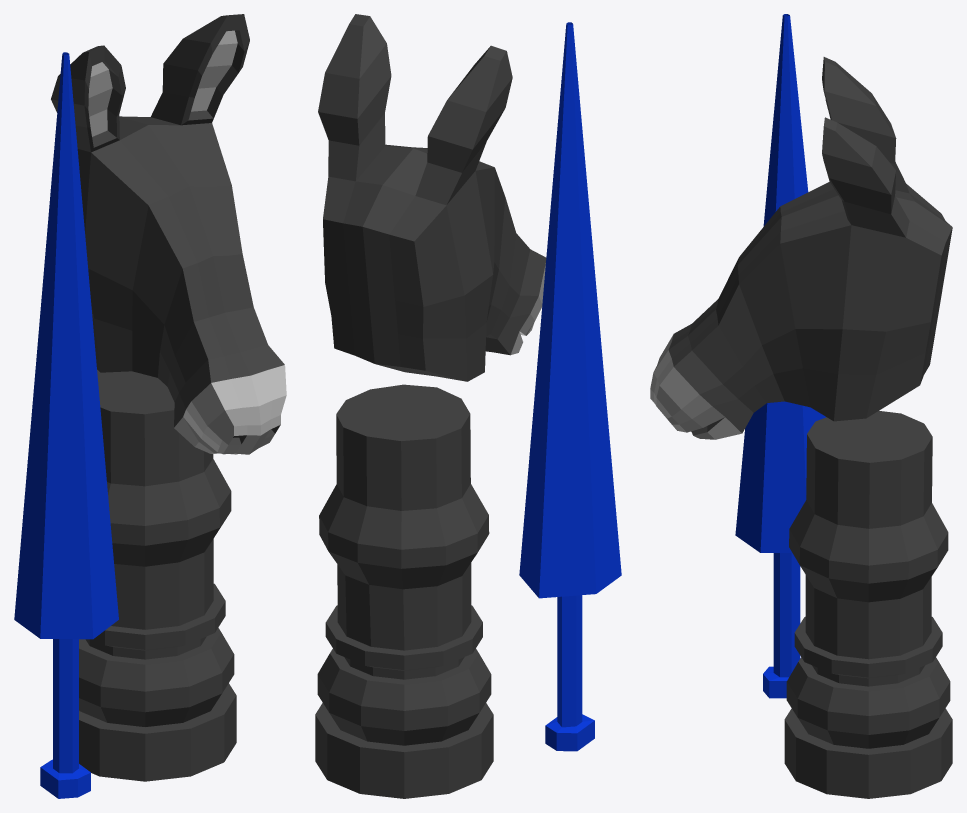
The model's file is KnightDonkey.fbx.
3 renders of one model, left to right at view 1: azimuth 30°, elevation 25°; view 2: azimuth 150°, elevation 25°; view 3: azimuth 270°, elevation 25°, orthographic. The views are drawn at different scales.
Visible parts, largest first — view 1: Cube.001; view 2: Cube.001; view 3: Cube.001.
Boxes of the visible parts, x1=… form: Cube.001: x1=14, y1=14, x2=286, y2=798; Cube.001: x1=315, y1=14, x2=621, y2=798; Cube.001: x1=650, y1=14, x2=952, y2=798.
Size of the model in its own units: 54.79 by 162 by 64.14.
Materials: 2 (1 with a texture image).
